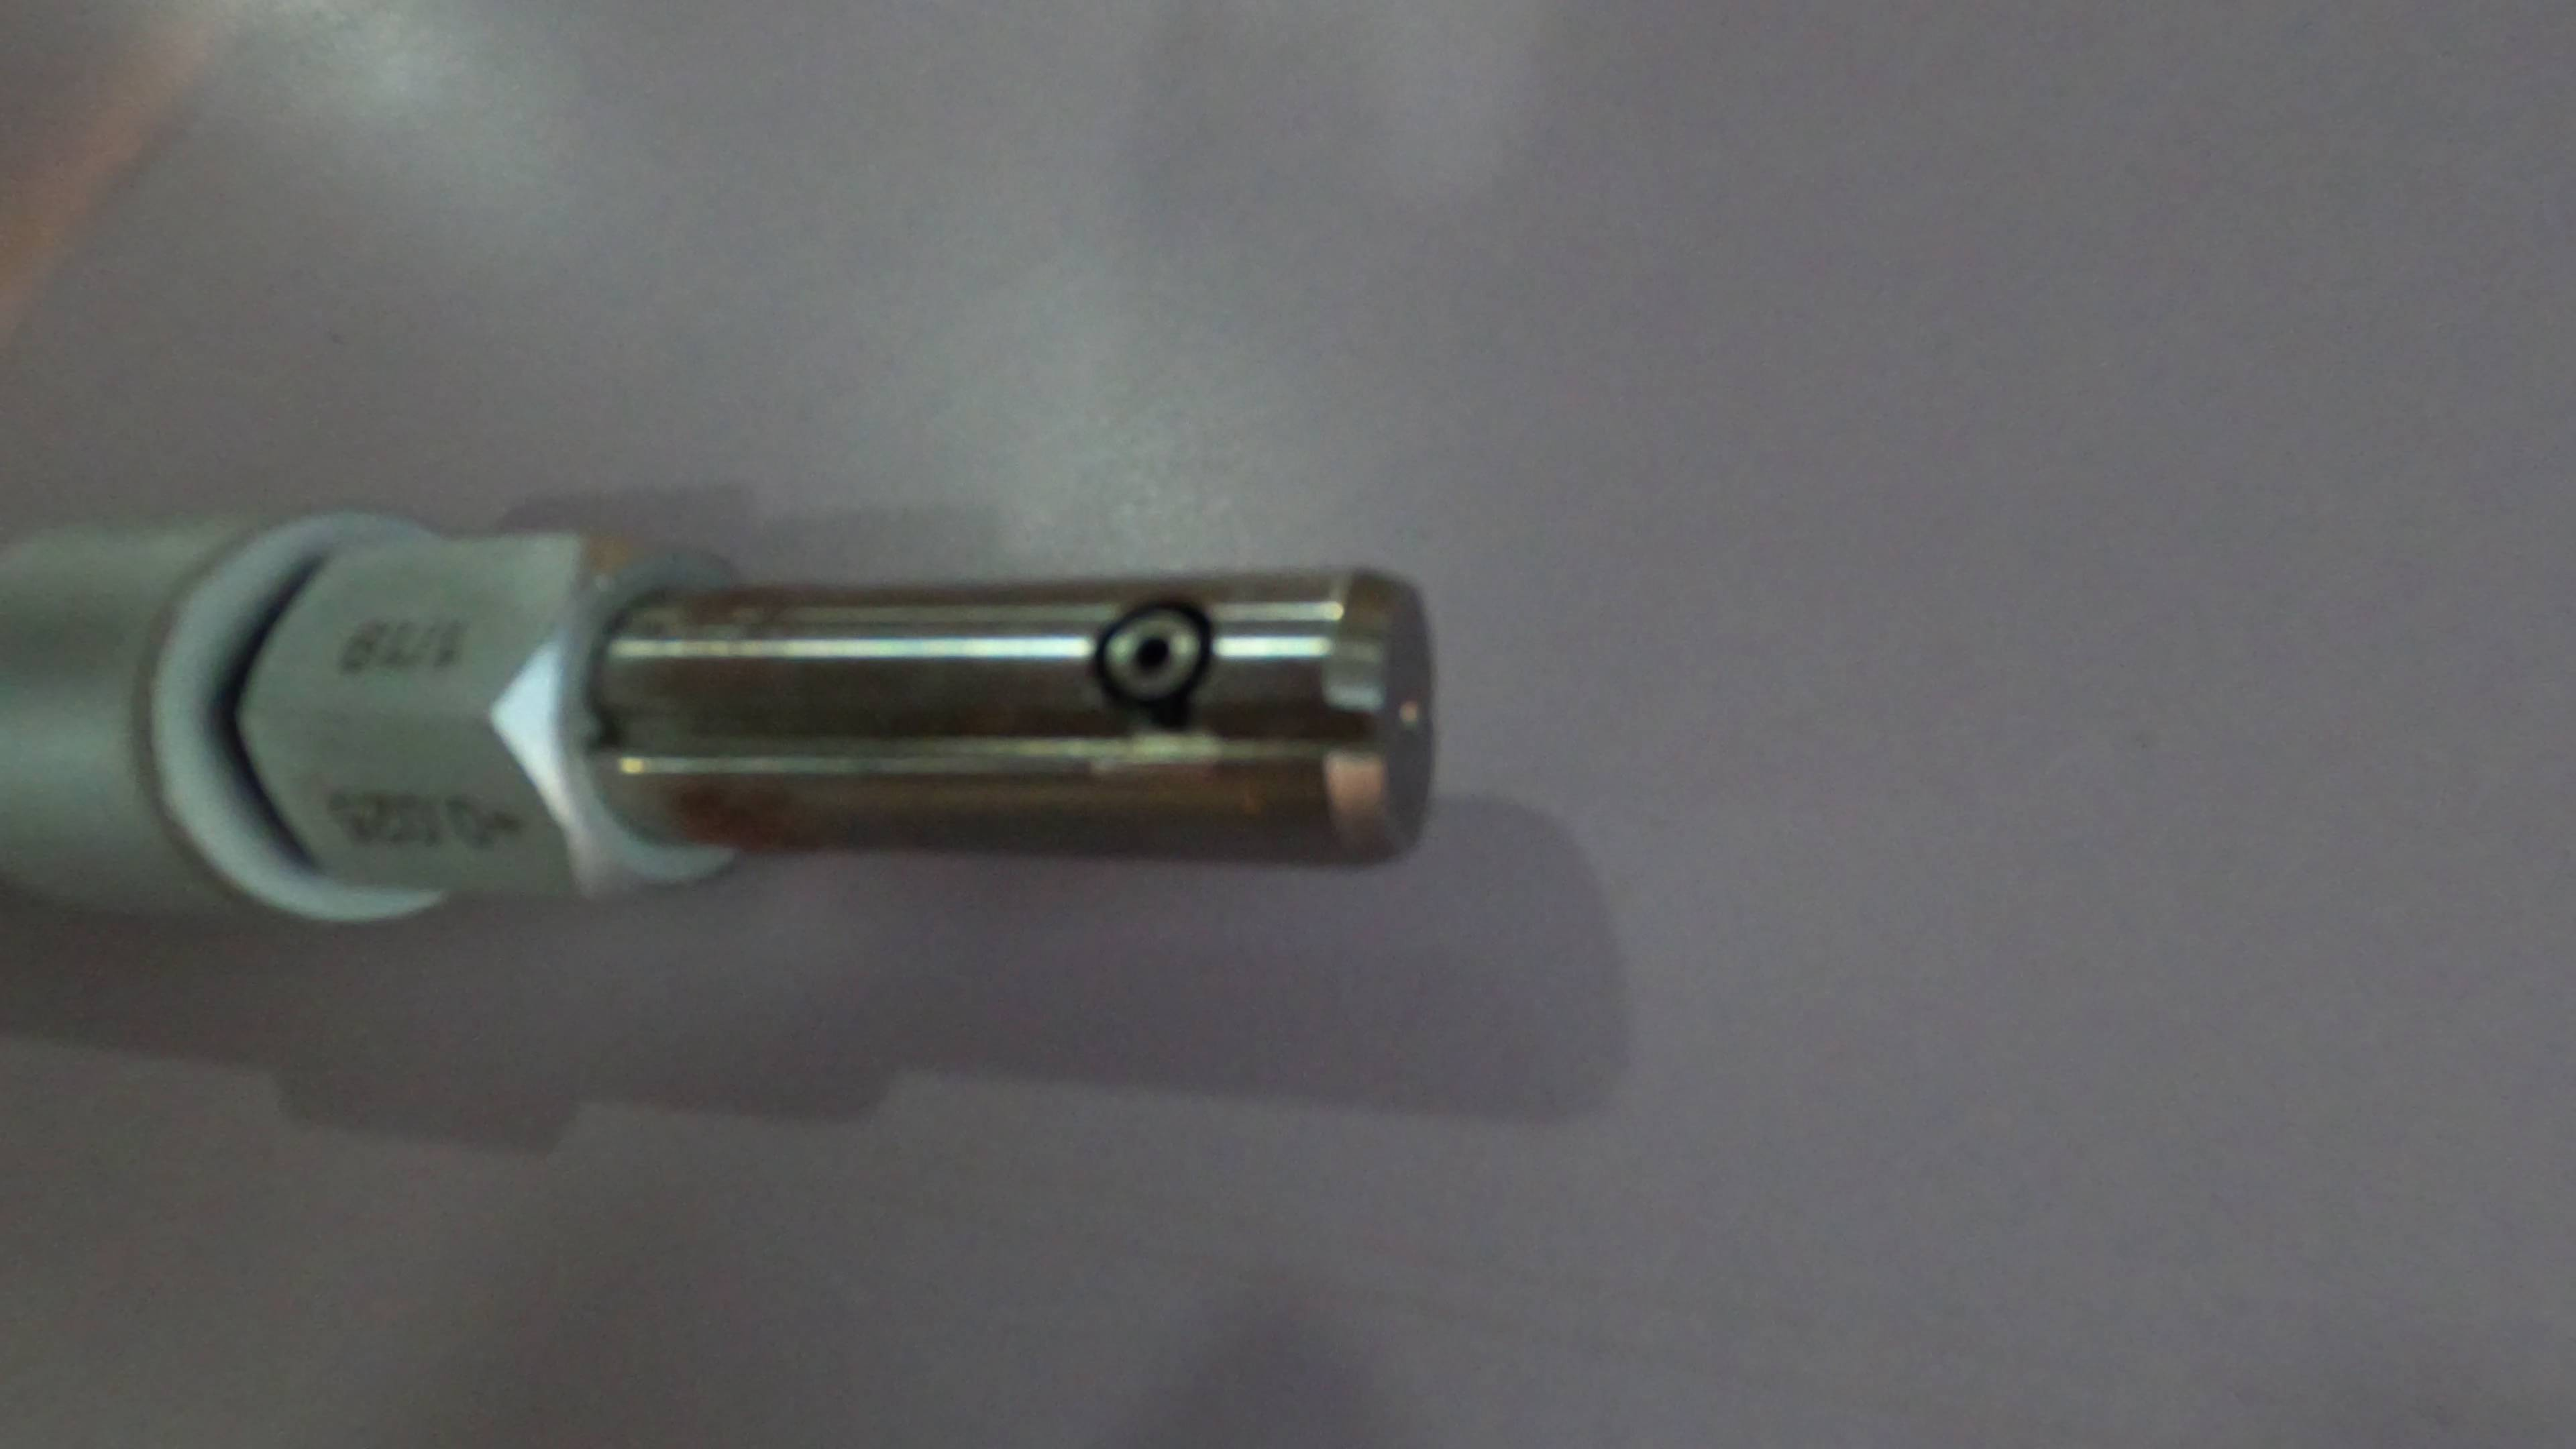air_gauge: (7, 518, 1451, 941)
